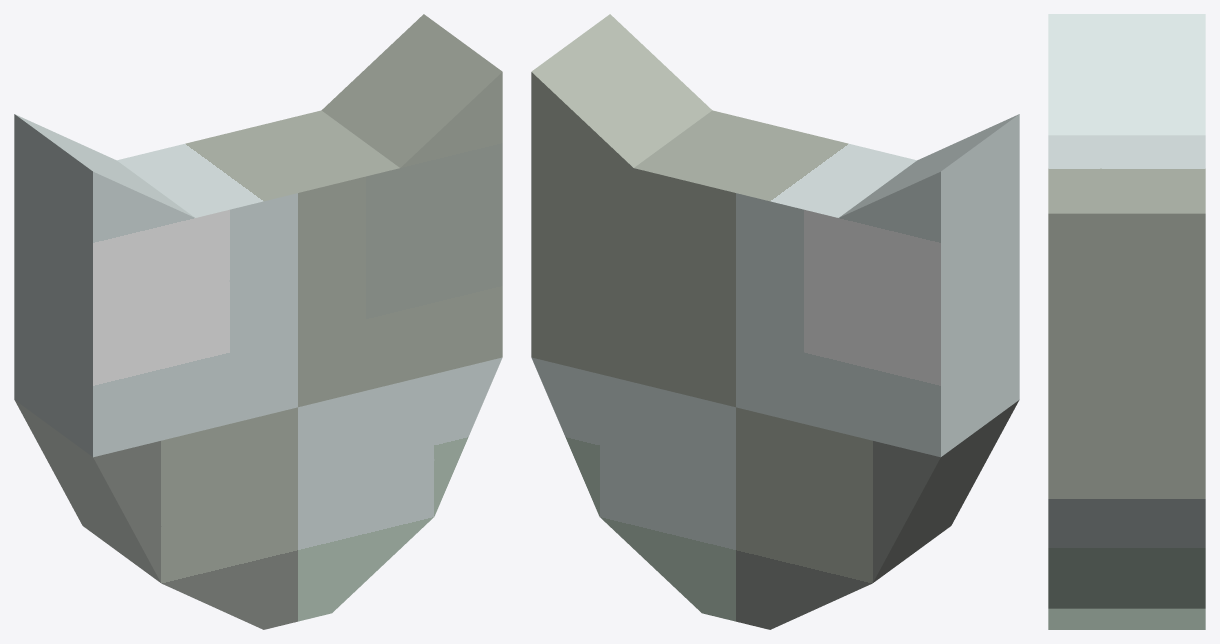
Rendered from shieldpickup.obj.
The picture shows the model from 3 angles, left to right: view 1: azimuth 30°, elevation 25°; view 2: azimuth 150°, elevation 25°; view 3: azimuth 270°, elevation 25°; orthographic projection.
Parts seen in each view (by area): view 1: mesh; view 2: mesh; view 3: mesh.
Part boxes in pixels (bbox=[...]): mesh: bbox=[14, 14, 502, 629]; mesh: bbox=[531, 14, 1019, 629]; mesh: bbox=[1048, 14, 1205, 629].
Size of the model in its own units: 0.375 by 0.4375 by 0.125.
Materials: 1 (1 with a texture image).
